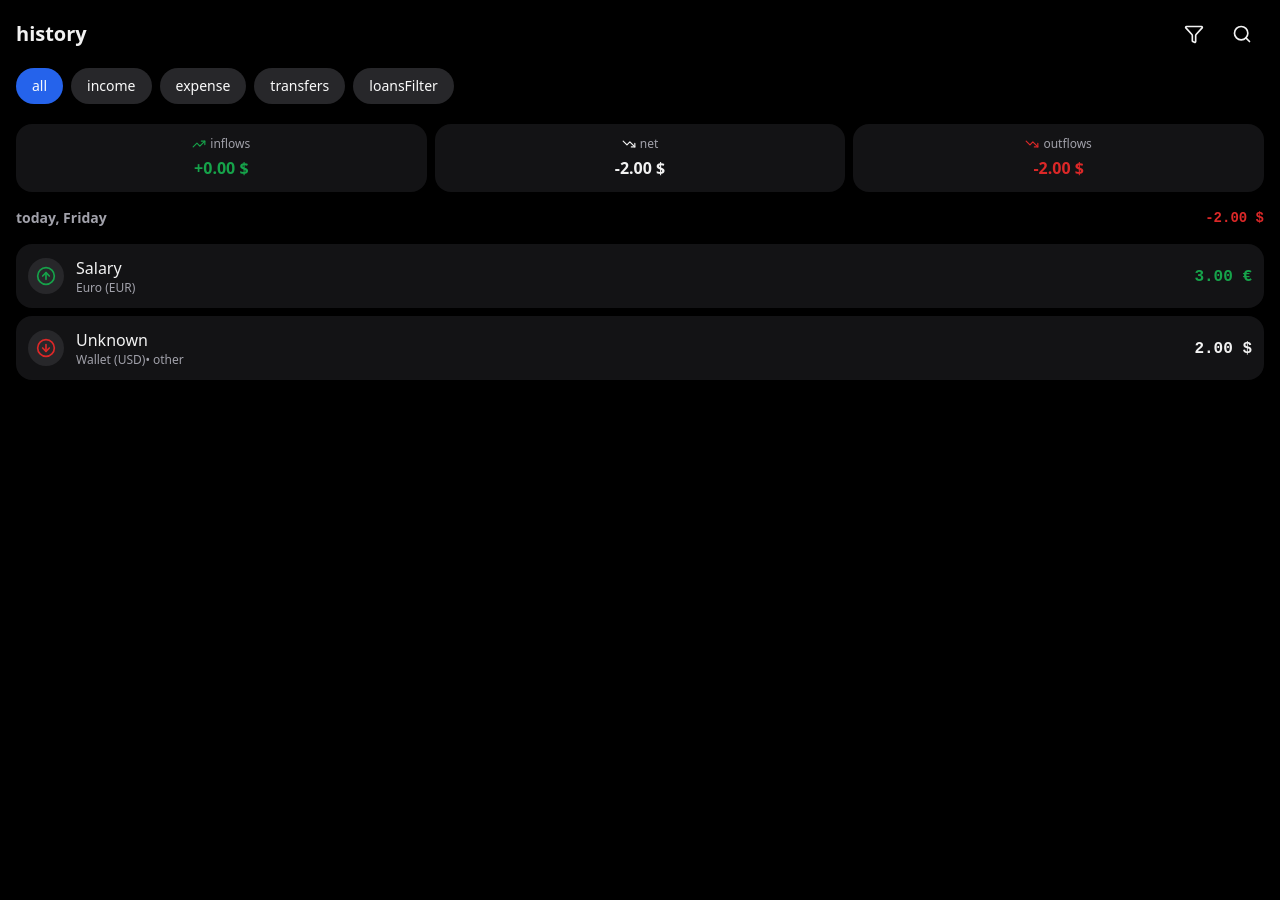
HistoryPage list › hides older transactions for today
Click the button with class "lucide-funnel" at (1194, 34), box top-left (1172, 12), bottom-right (1216, 56)
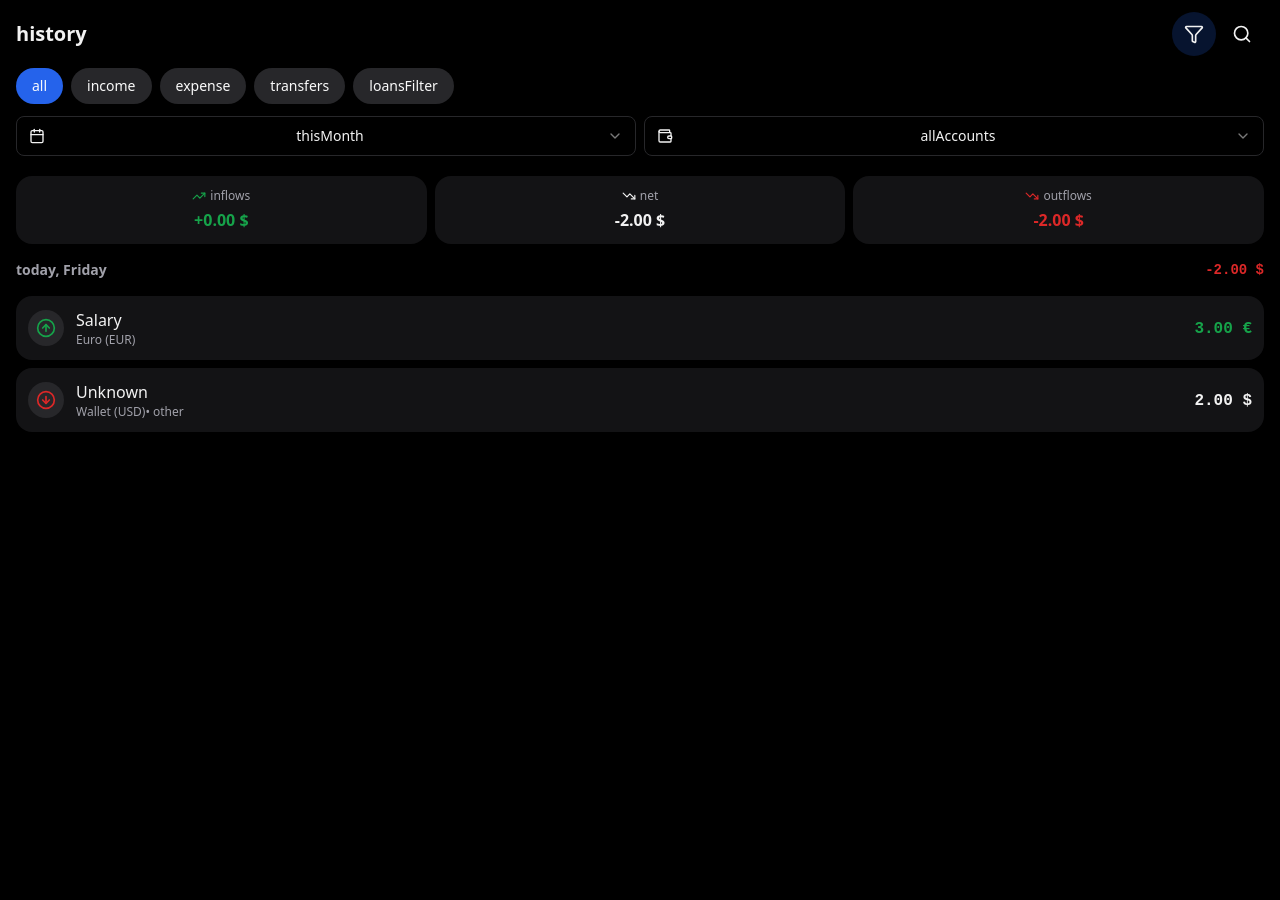
Click the button "thisMonth" at (326, 136), box top-left (16, 116), bottom-right (636, 156)
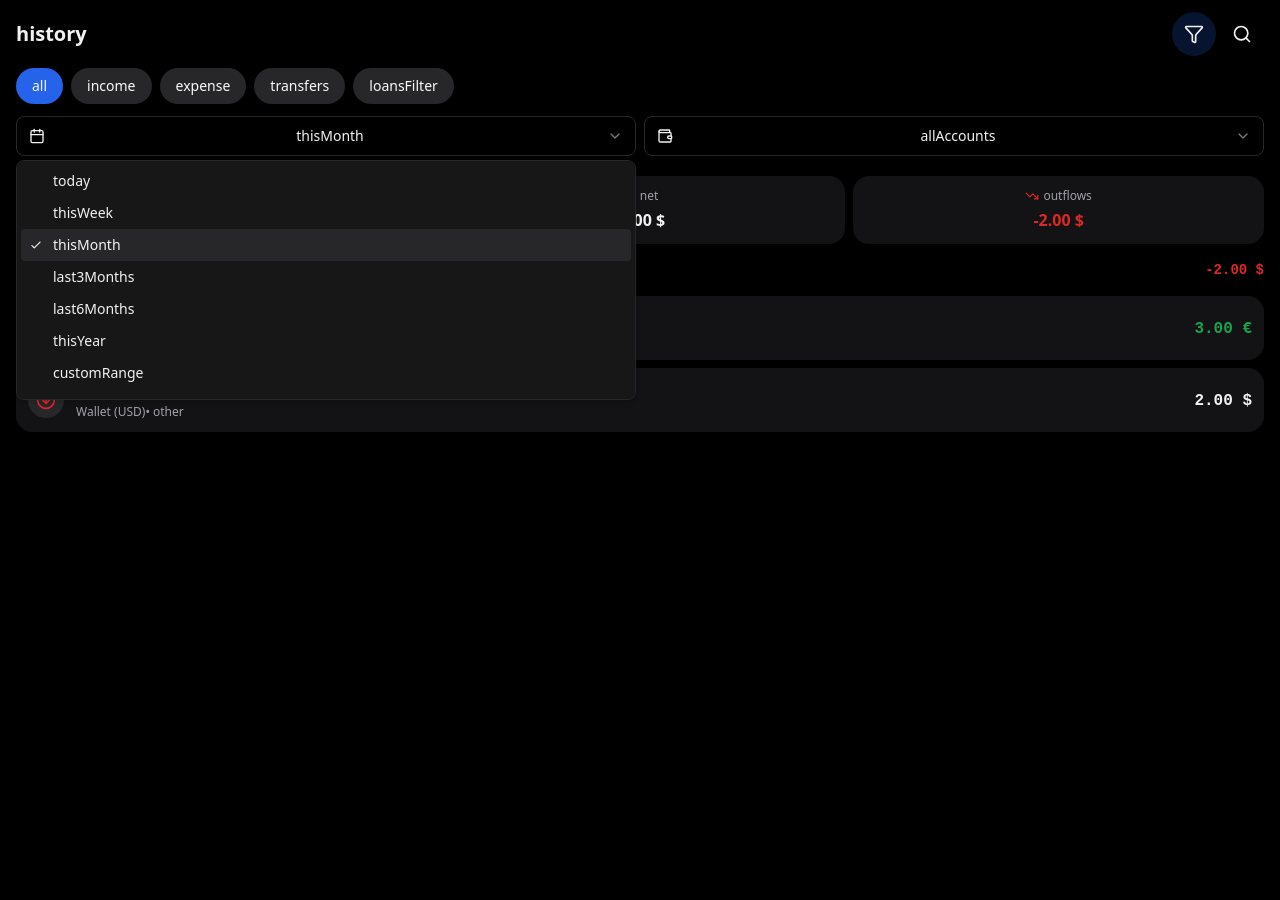
Click the option "today" at (72, 180), box top-left (53, 171), bottom-right (90, 190)
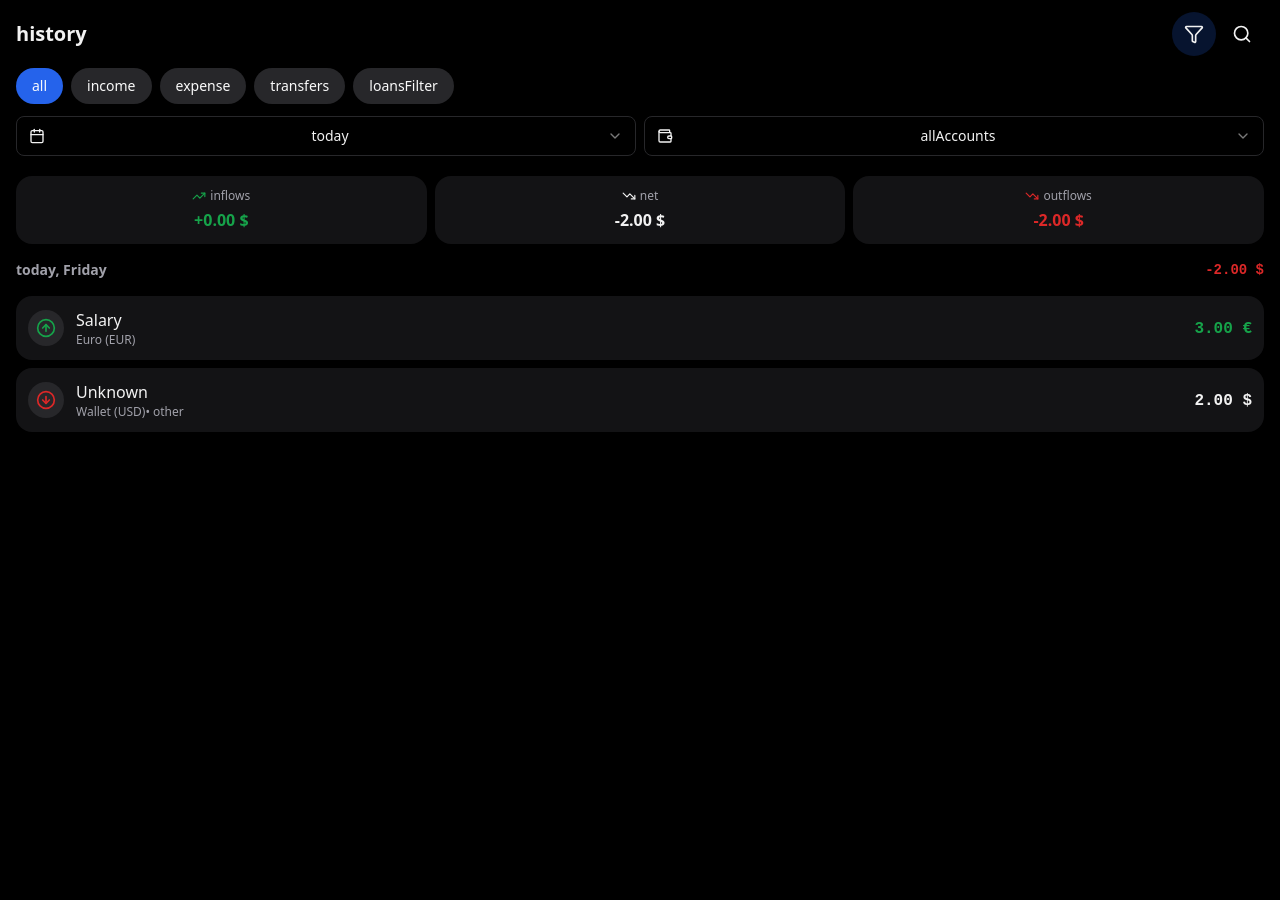
Check: the text "• other" is shown, box top-left (145, 404), bottom-right (184, 420)
Check: the button "today" is shown, box top-left (16, 116), bottom-right (636, 156)
